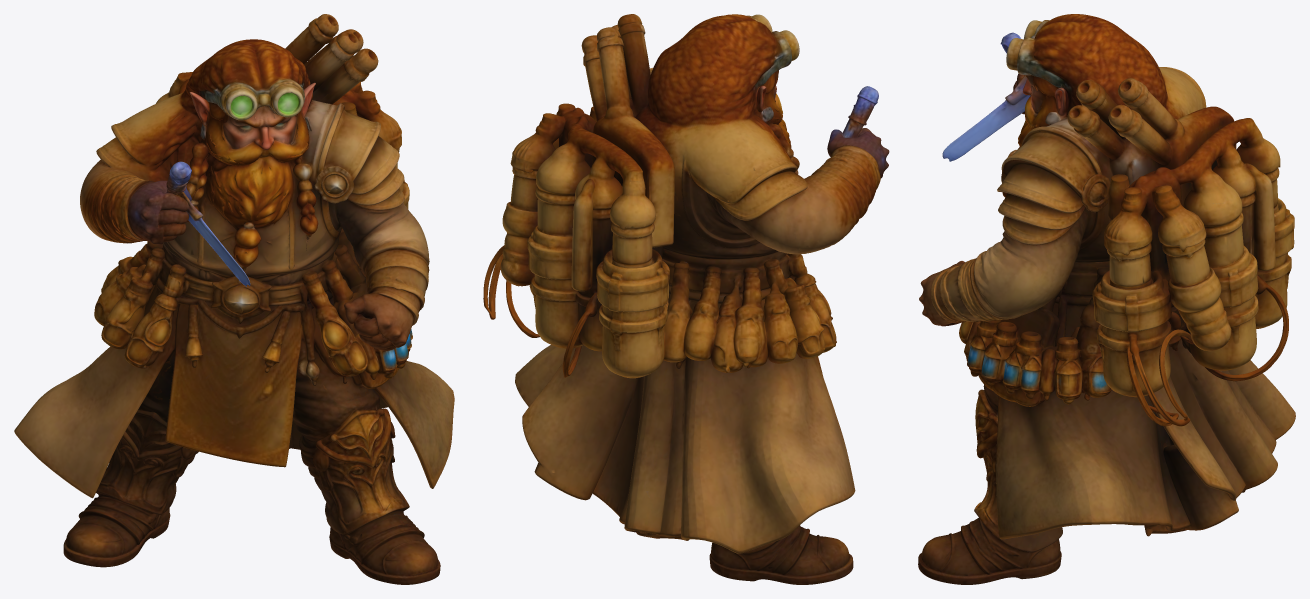
Rendered from dwarf_artificer_full_male_01.glb.
The picture shows the model from 3 angles, left to right: view 1: azimuth 30°, elevation 25°; view 2: azimuth 150°, elevation 25°; view 3: azimuth 270°, elevation 25°; orthographic projection. The views are drawn at different scales.
Parts seen in each view (by area): view 1: material; view 2: material; view 3: material.
Boxes of the visible parts, <box> form: material: <box>14,14,454,584</box>; material: <box>483,14,889,584</box>; material: <box>918,14,1295,584</box>.
Size of the model in its own units: 0.7472 by 0.9679 by 0.6541.
Materials: 1 (1 with a texture image).
